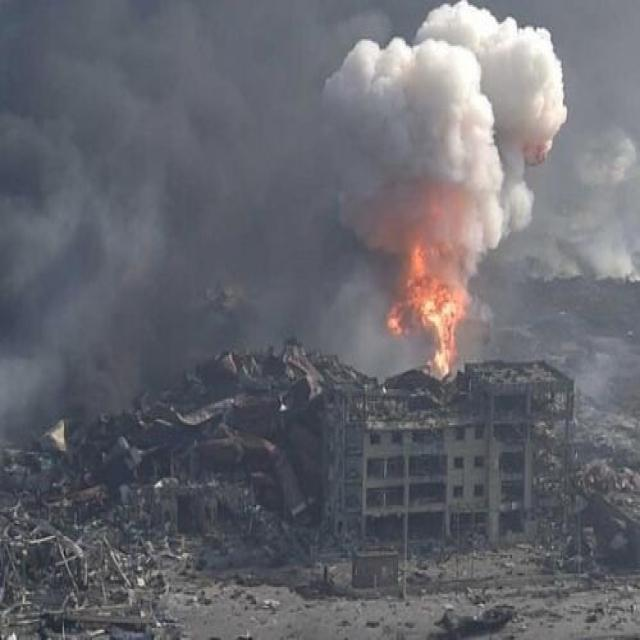Fire: (387, 246, 467, 375)
Smoke: (2, 1, 640, 445)
